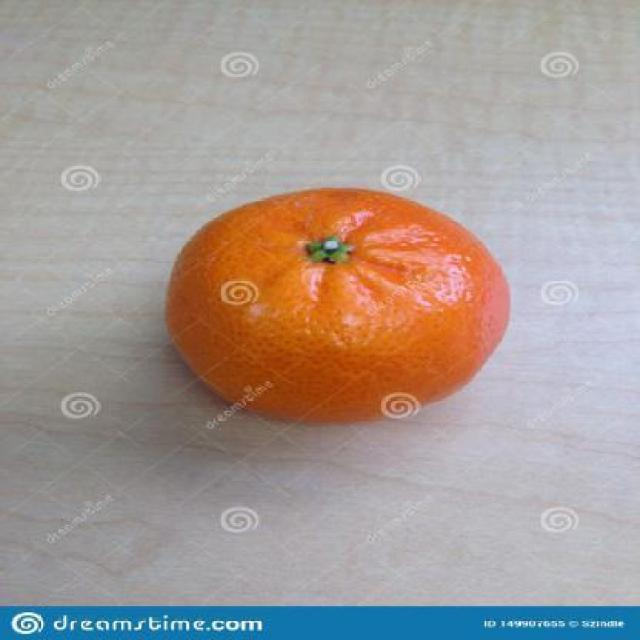Jeruk Sudah Matang: (173, 190, 510, 416)
